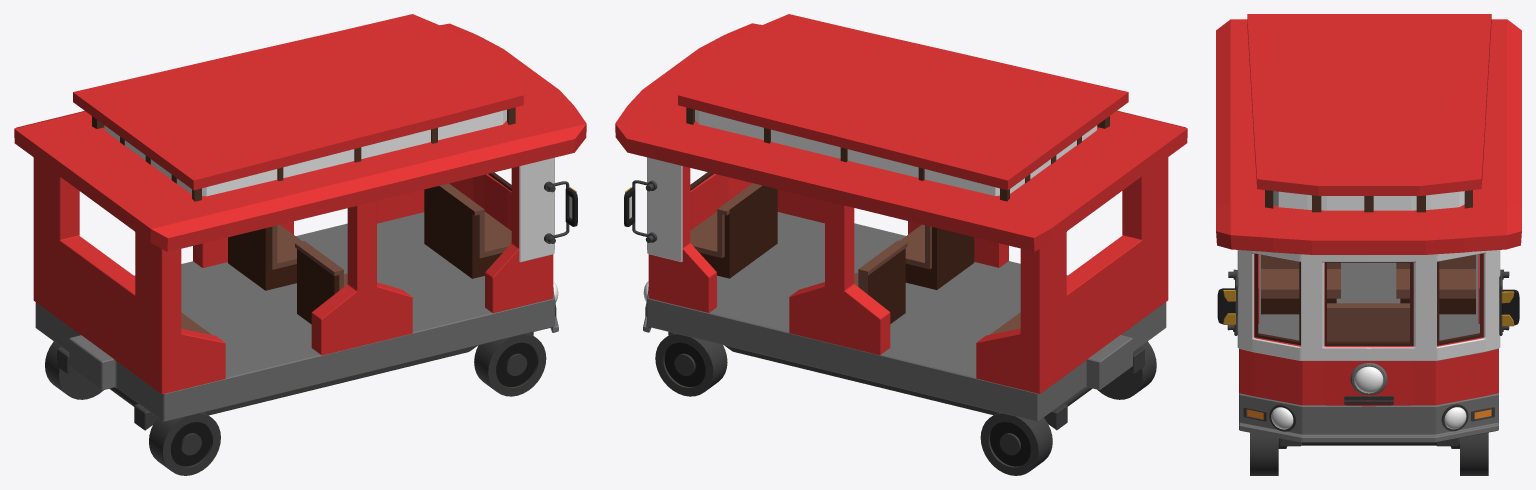
File: Tram.fbx
The picture shows the model from 3 angles, left to right: view 1: azimuth 30°, elevation 25°; view 2: azimuth 150°, elevation 25°; view 3: azimuth 270°, elevation 25°; orthographic projection.
Parts seen in each view (by area): view 1: Cube.017, Plane.009, Plane.012, Plane.017, Cube.012, Plane.015, Cube.014, Circle.014, Circle.017, Plane.011, Cube.013, Circle.013; view 2: Cube.017, Plane.009, Plane.012, Plane.017, Cube.012, Plane.015, Cube.013, Circle.013, Circle.018, Plane.011, Cube.014, Circle.014; view 3: Cube.017, Plane.017, Plane.012, Plane.011, Plane.009, Cube.012, Cube.013, Cube.014, Plane.015, Circle.018, Circle.017, Cube.016 (+10 smaller).
Boxes of the visible parts, x1,y1,x2,y2 form: Cube.017: (73,14,523,190); Plane.009: (33,157,553,394); Plane.012: (35,212,558,430); Plane.017: (14,23,586,251); Cube.012: (424,183,511,278); Plane.015: (105,109,506,196); Cube.014: (228,224,302,290); Circle.014: (149,412,220,475); Circle.017: (474,333,546,396); Plane.011: (500,157,554,262); Cube.013: (295,241,347,324); Circle.013: (45,341,103,399); Cube.017: (678,14,1128,190); Plane.009: (648,157,1168,394); Plane.012: (643,212,1166,430); Plane.017: (615,23,1187,251); Cube.012: (690,183,777,278); Plane.015: (695,109,1096,195); Cube.013: (900,224,974,289); Circle.013: (980,412,1052,475); Circle.018: (655,333,727,396); Plane.011: (647,157,701,262); Cube.014: (854,240,907,323); Circle.014: (1097,341,1156,399); Cube.017: (1247,14,1491,195); Plane.017: (1216,19,1521,254); Plane.012: (1239,254,1498,446); Plane.011: (1237,250,1500,360); Plane.009: (1239,253,1498,406); Cube.012: (1327,303,1409,341); Cube.013: (1261,254,1340,314); Cube.014: (1396,255,1475,314); Plane.015: (1273,191,1464,210); Circle.018: (1460,432,1488,475); Circle.017: (1250,432,1278,475); Cube.016: (1325,262,1412,345).
Bounding box in the file's own units: 522 × 328 × 305.
